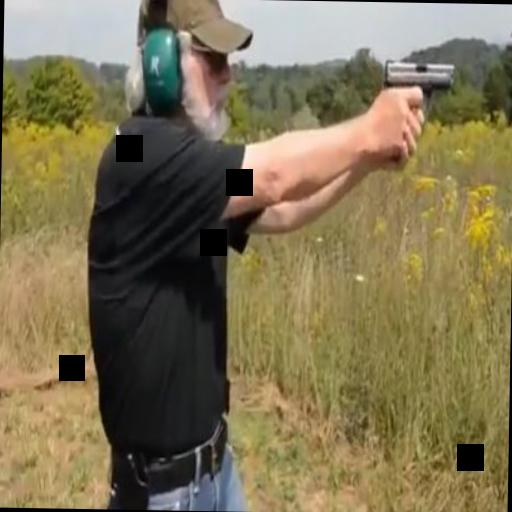Handgun: (378, 58, 456, 162)
